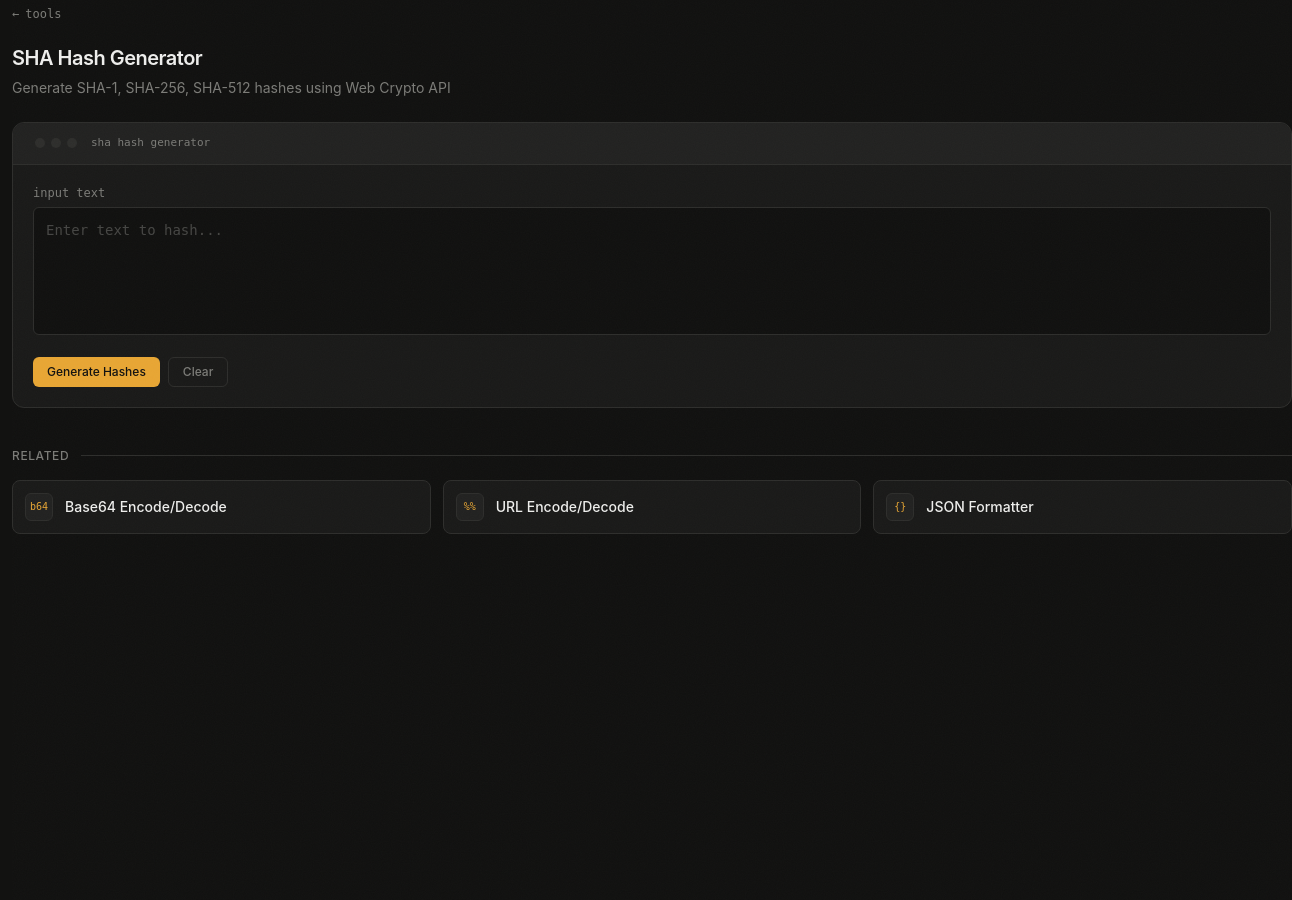
Test case: SHA Hash Generator › generates SHA hashes for input text
The image size is (1292, 900).
Type "hello" into the text box with placeholder "Enter text to hash...".
click(652, 270); type("hello")  # box [33,206,1271,334]
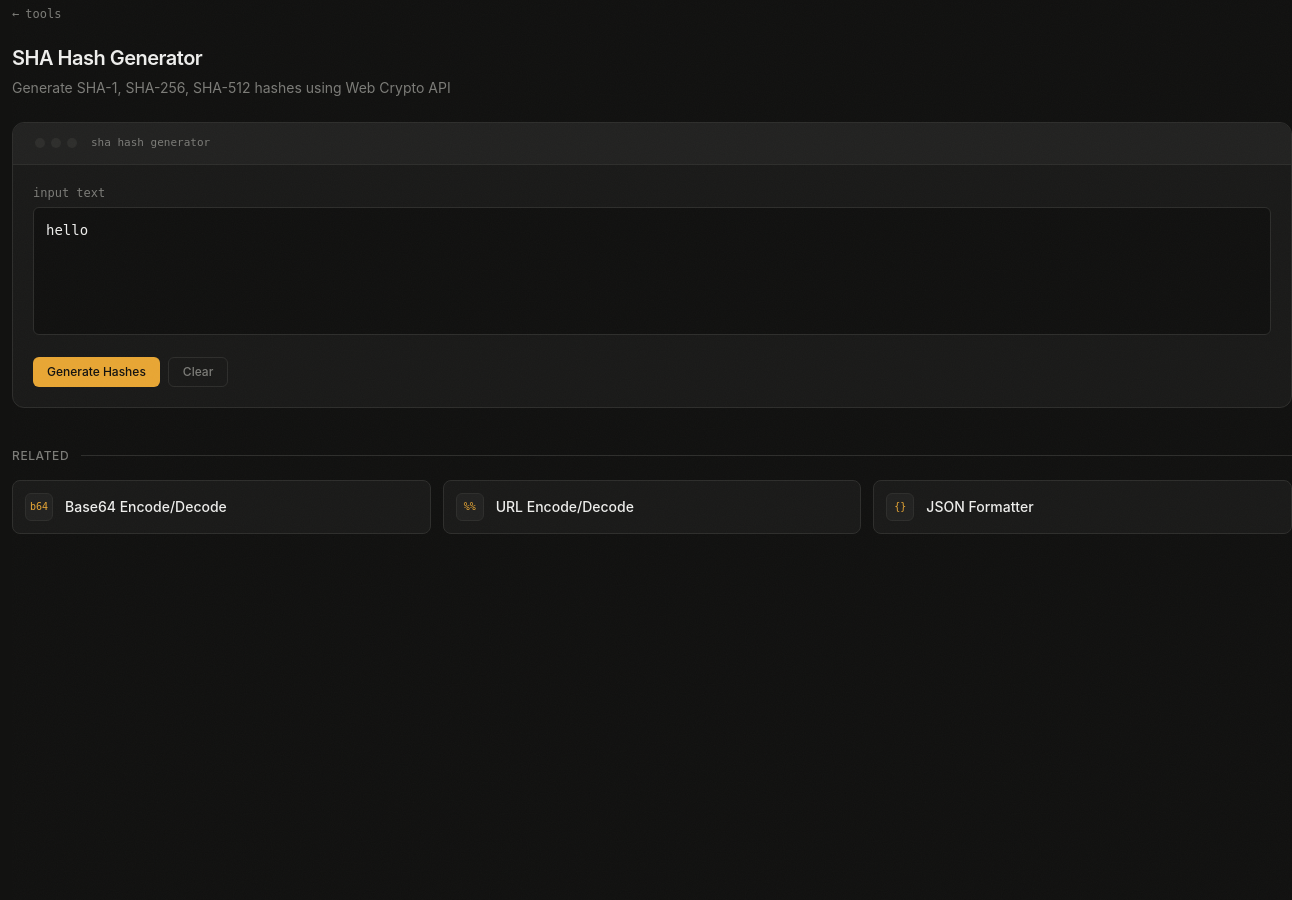
Click the button "Generate Hashes".
click(96, 372)  # box [33,356,160,386]
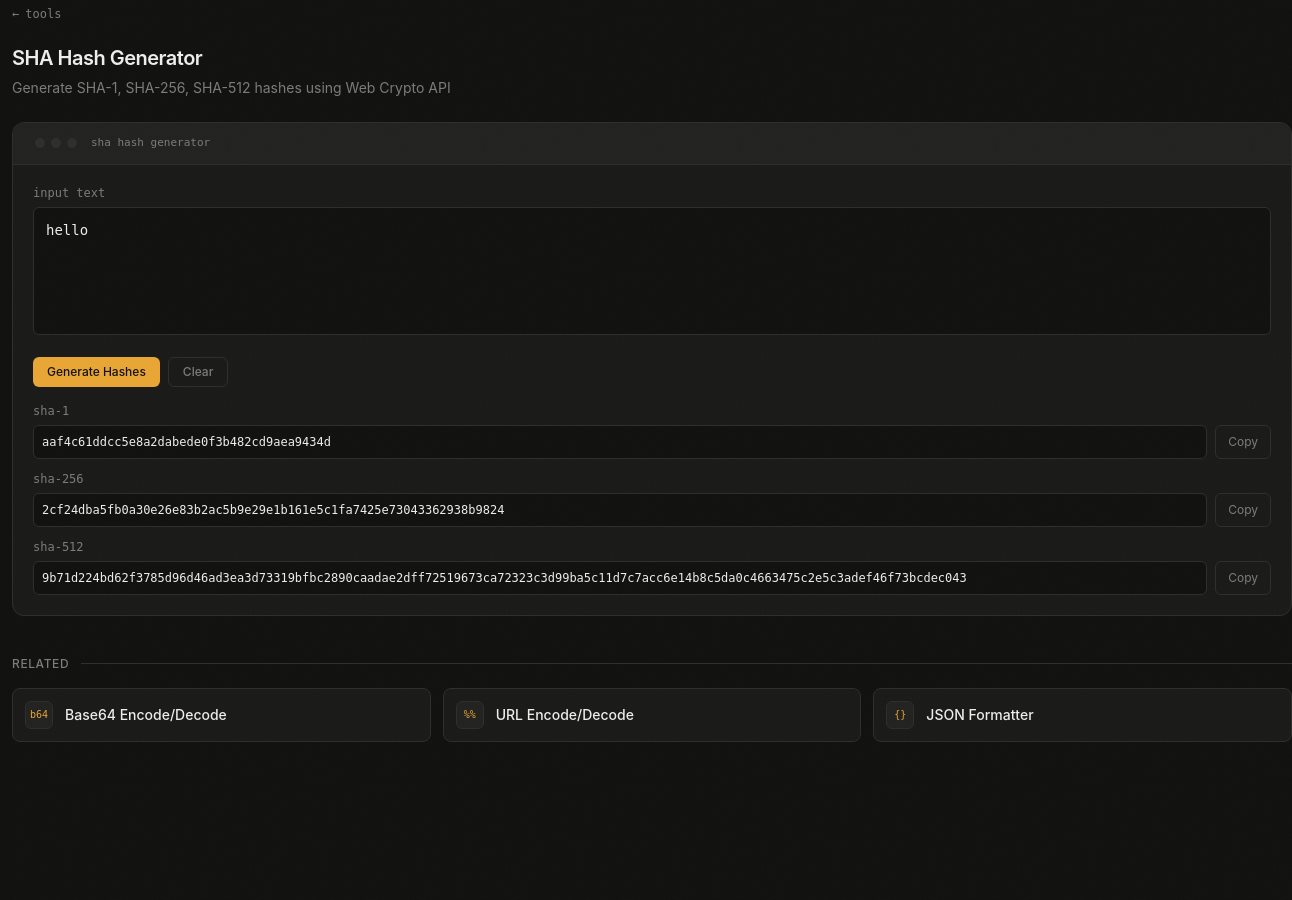
Check: the 2nd field showing "2cf24dba5fb0a30e26e83b2ac5b9e29e1b161e5c1fa7425e73043362938b9824" is shown, box [33,492,1207,526]
